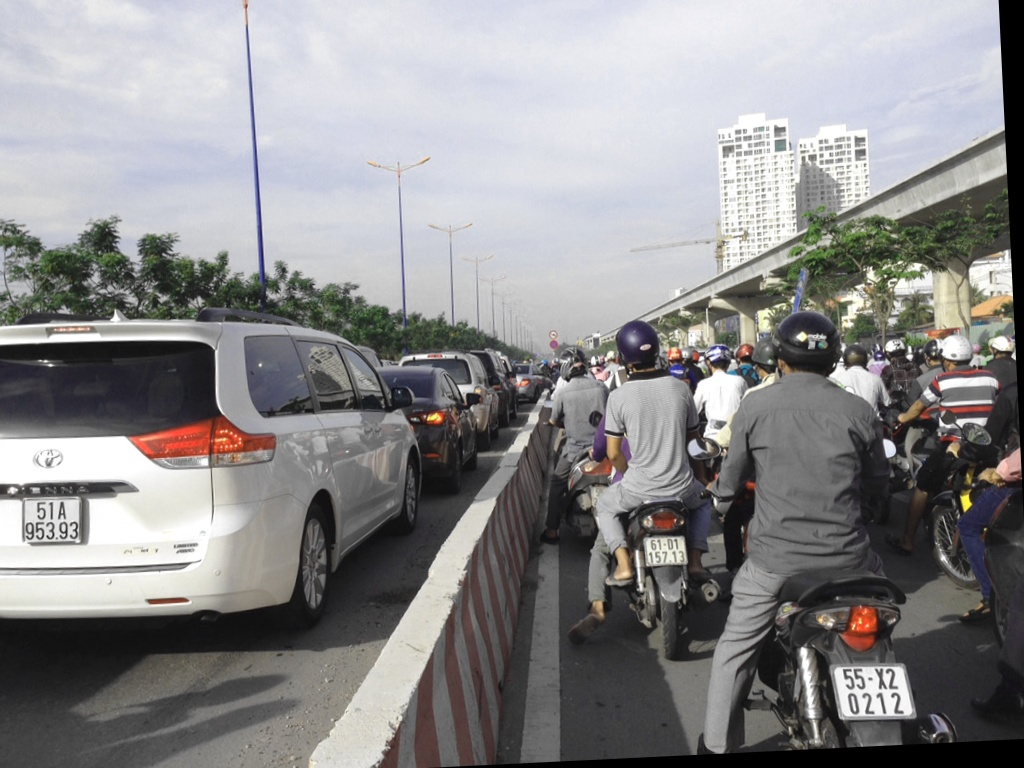Bien-so: (833, 663, 922, 720), (14, 496, 90, 549), (645, 534, 689, 573)
